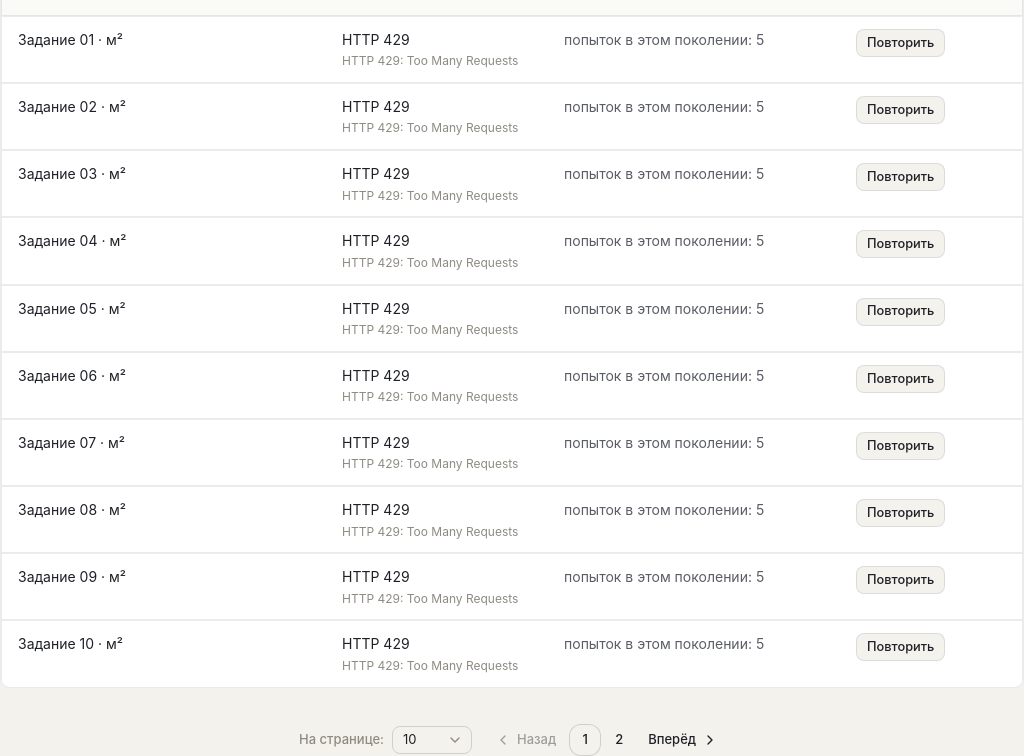
Test: ErrorsQueue — страницы › страницы ошибок: при 10 на странице одиннадцатое задание на второй
(page scrolled)
Check: the text "Задание 11 · м²" is not shown
Click the button with aria-label "Следующая страница" at (683, 739), box 648,731 -> 718,748
(page scrolled)
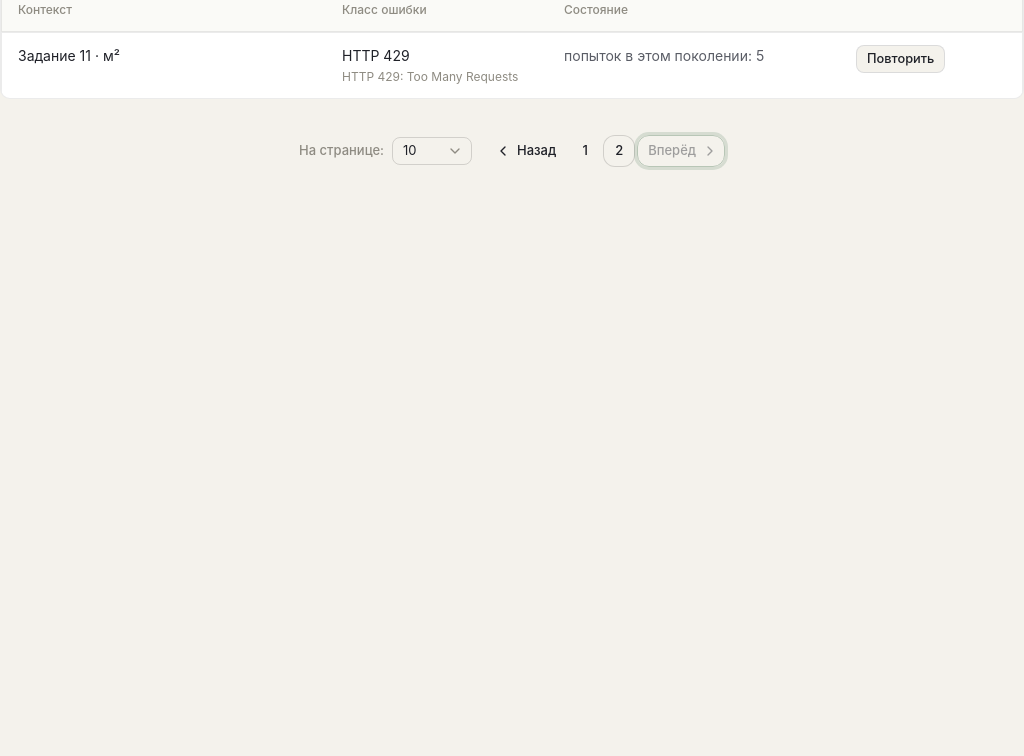
Check: the number of elements with test id "error-job" is 1, box 1,32 -> 1023,98
Check: the text "Задание 11 · м²" is shown, box 18,47 -> 120,64
